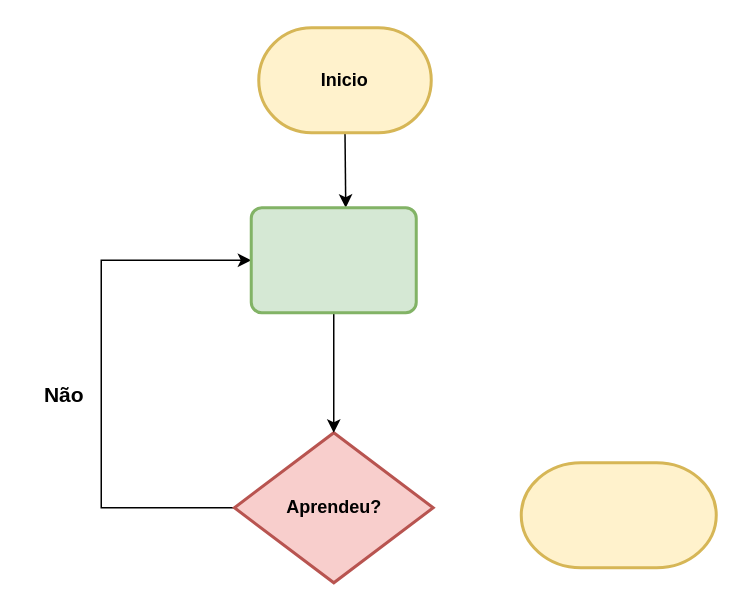
This 743x609 diagram has some shape labels left out. The shapes that lost their labels are listed below. From the top down, each one's centre as x and y in pixels, then its label:
At pixel 333 260: "Estudar Fluxograma".
At pixel 618 514: "Fim".
